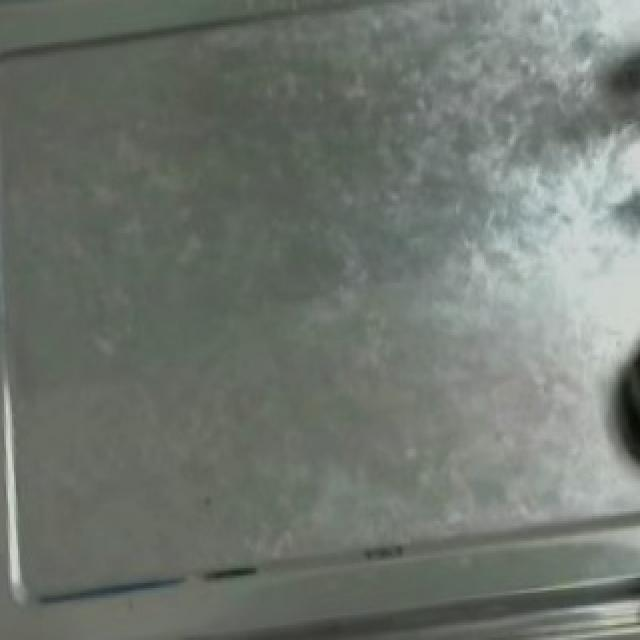Fruit: (612, 328, 640, 472)
